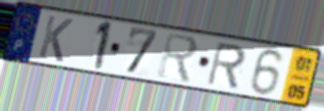1: (92, 19, 116, 72)
6: (248, 47, 286, 97)
7: (125, 24, 161, 77)
K: (36, 13, 75, 64)
R: (155, 30, 200, 86), (204, 41, 248, 91)
